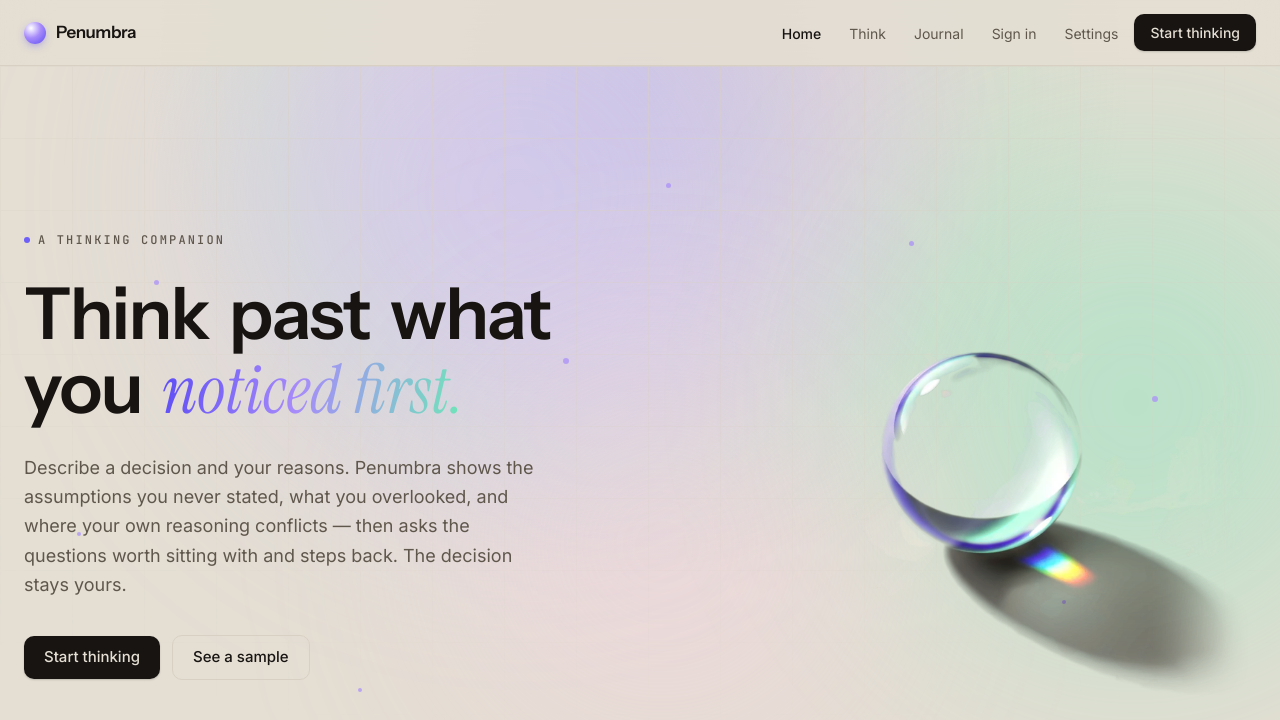
Test: App shell › navigates to the sign-in page from the nav
This screenshot has width=1280, height=720.
Click the link "Sign in": (1014,33) [992,24,1036,42]
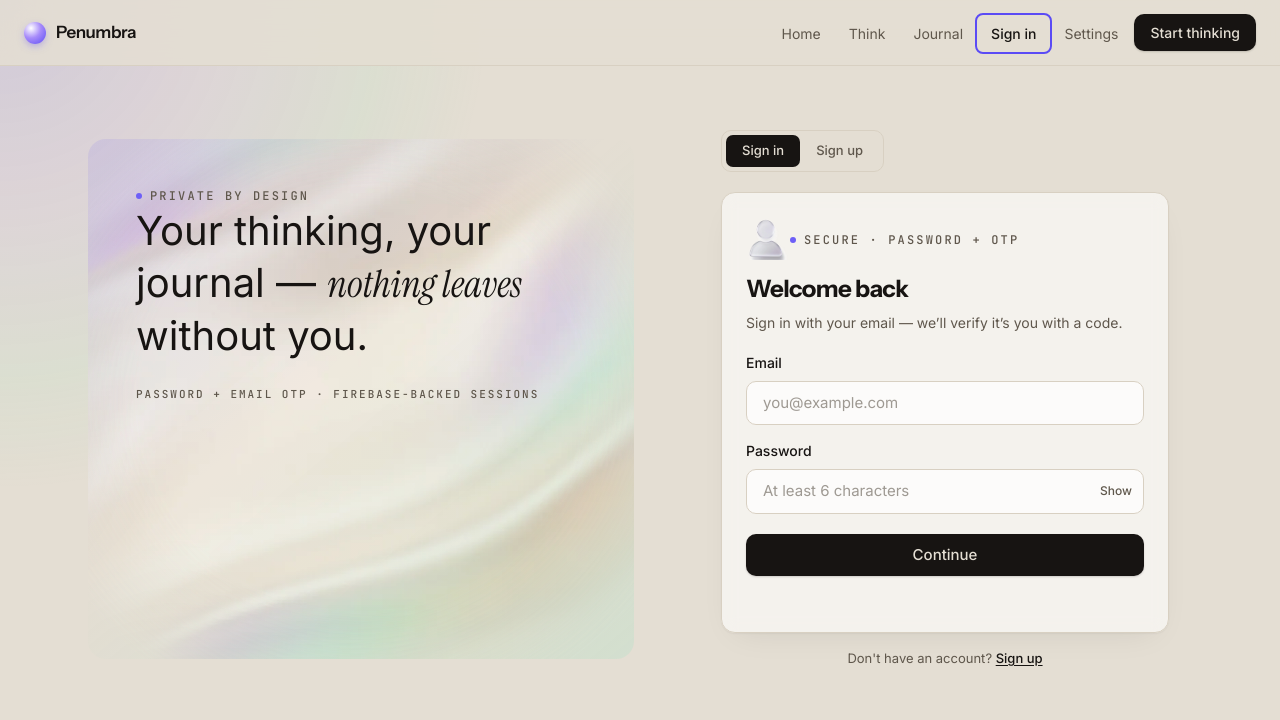
Result: the heading "Welcome back" is shown at [746,274,908,302]
Result: the field labelled "Email" is shown at [746,380,1144,425]
